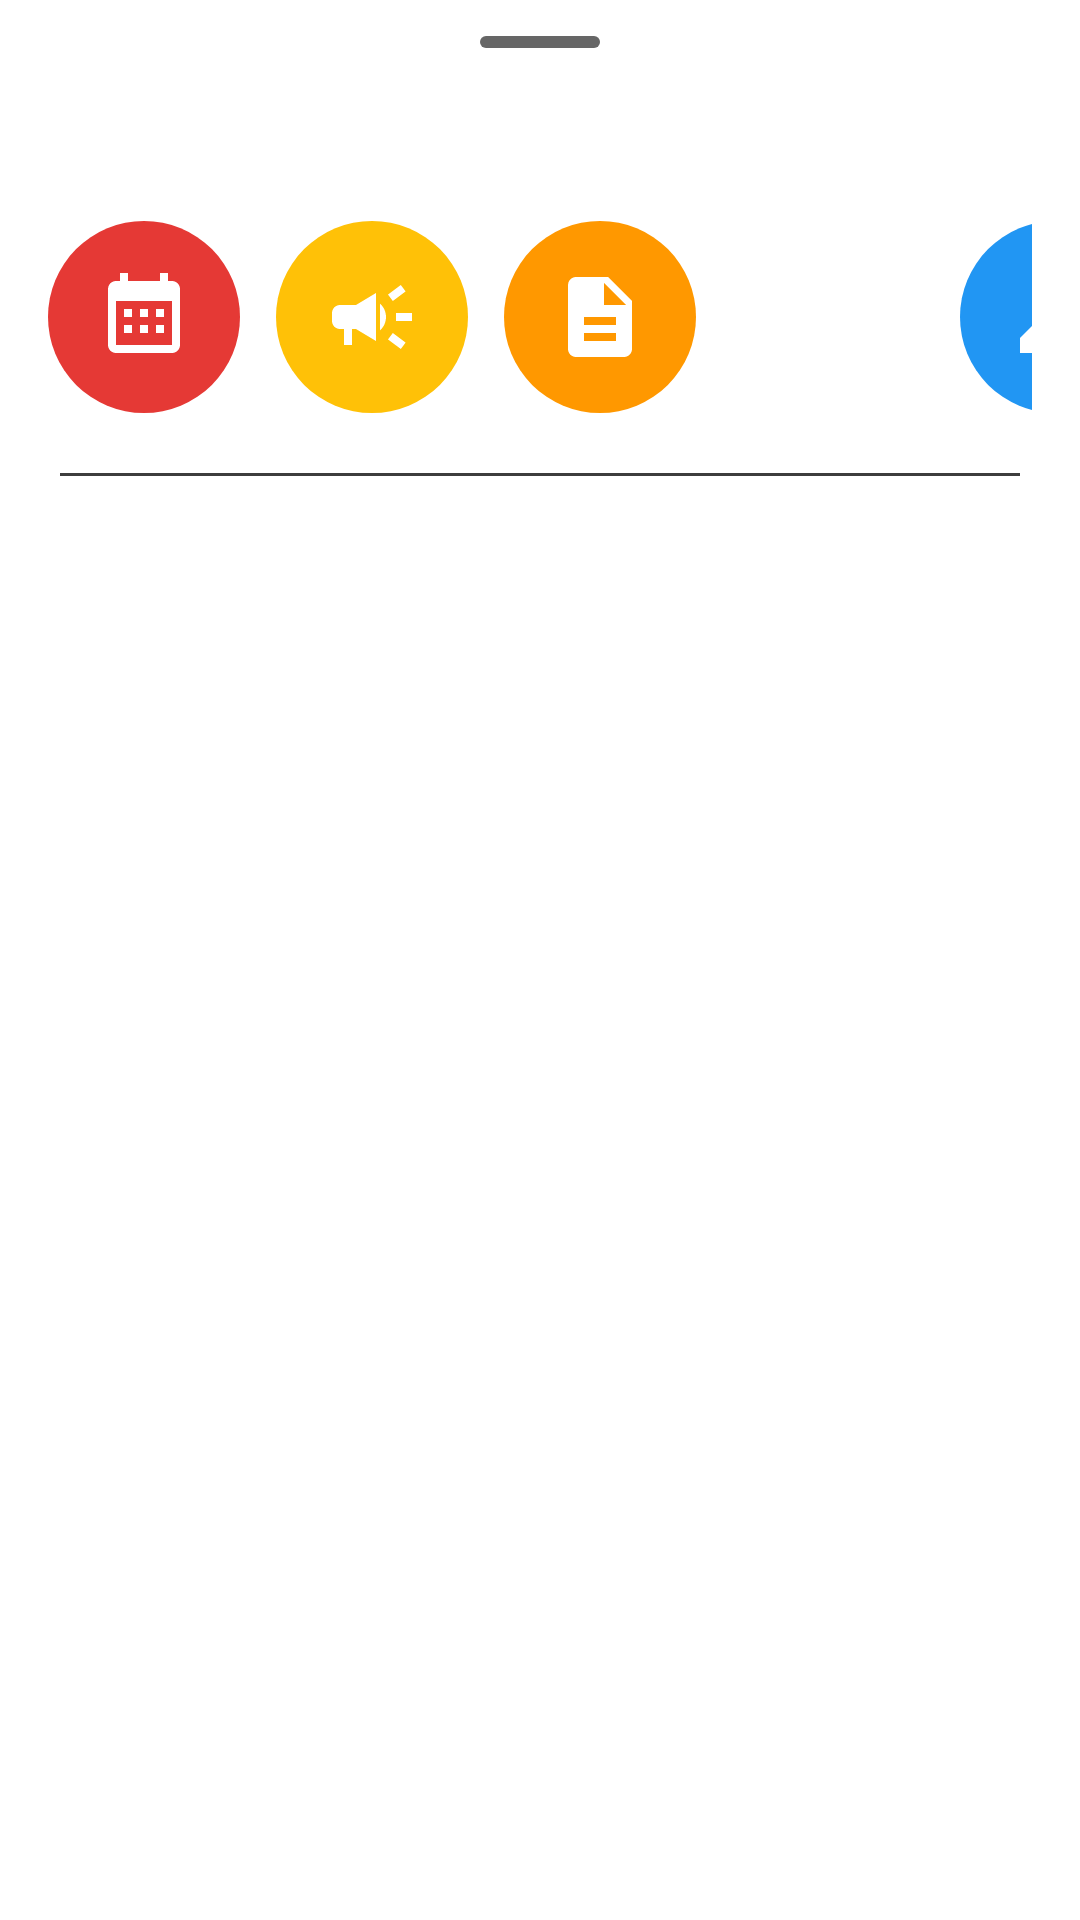

Screen size 1080w x 1920h. Icon name, then its box in pixels as (x1, y1, x2, y2):
Lựa chọn avatar biểu tượng loa: (276, 221, 468, 413)
Lựa chọn avatar biểu tượng lịch: (48, 221, 240, 413)
